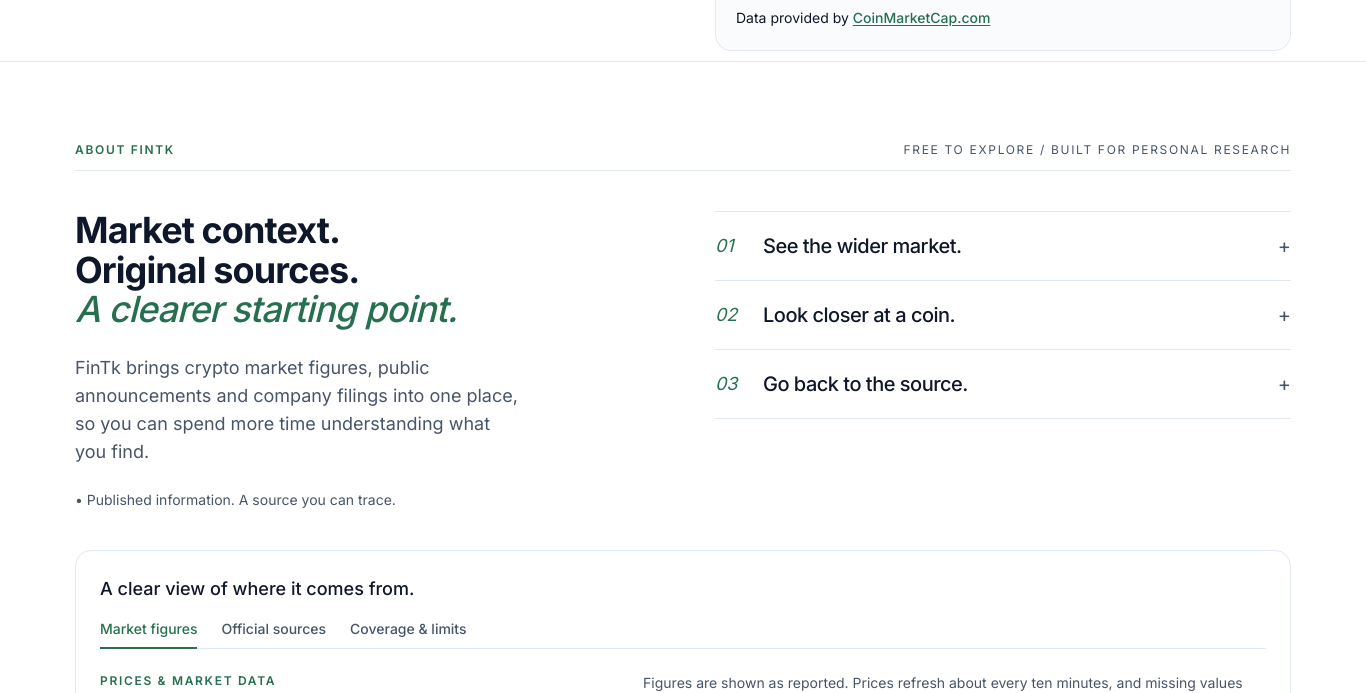
Scenario: CryptoHome about section › only describes the pages that are switched on
The image size is (1366, 693).
(page scrolled)
Expected: the text "Read official announcements" is not shown
Click the button "03 Go back to the source. +" at (865, 384), box [715,350,1291,418]
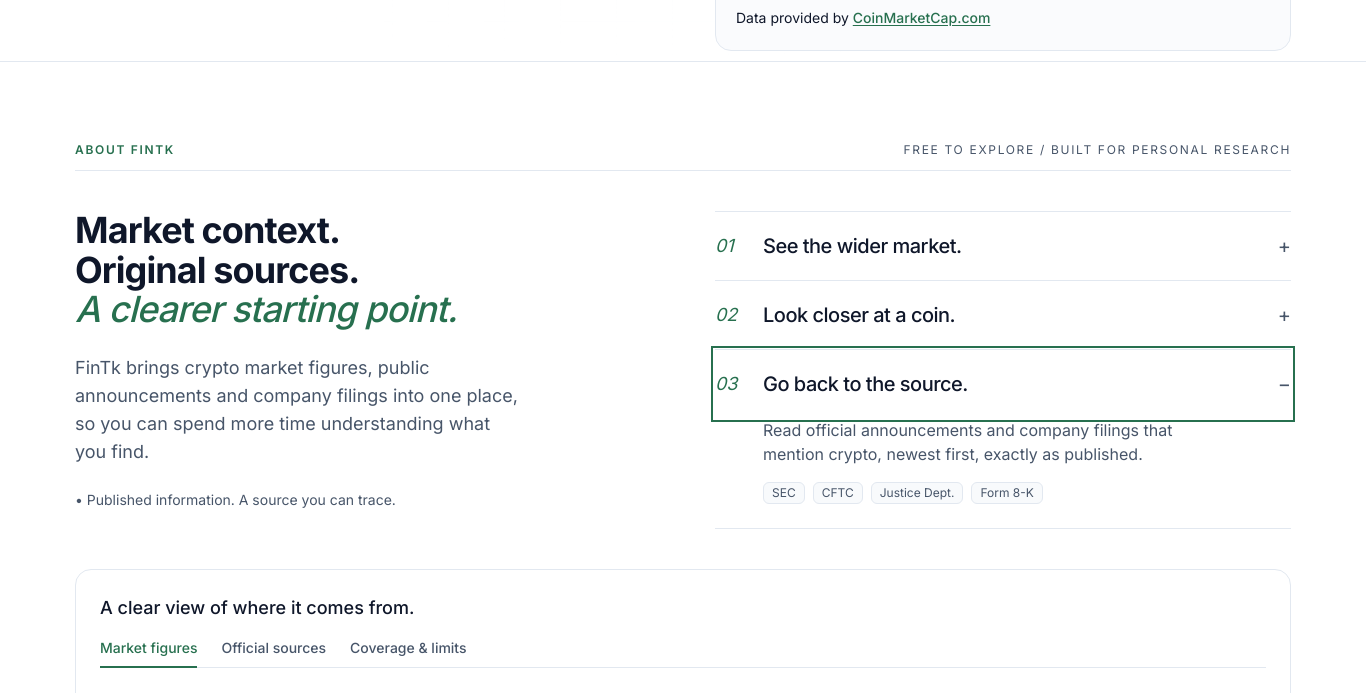
Expected: the text "Read official announcements" is shown, [763,420,1172,464]
